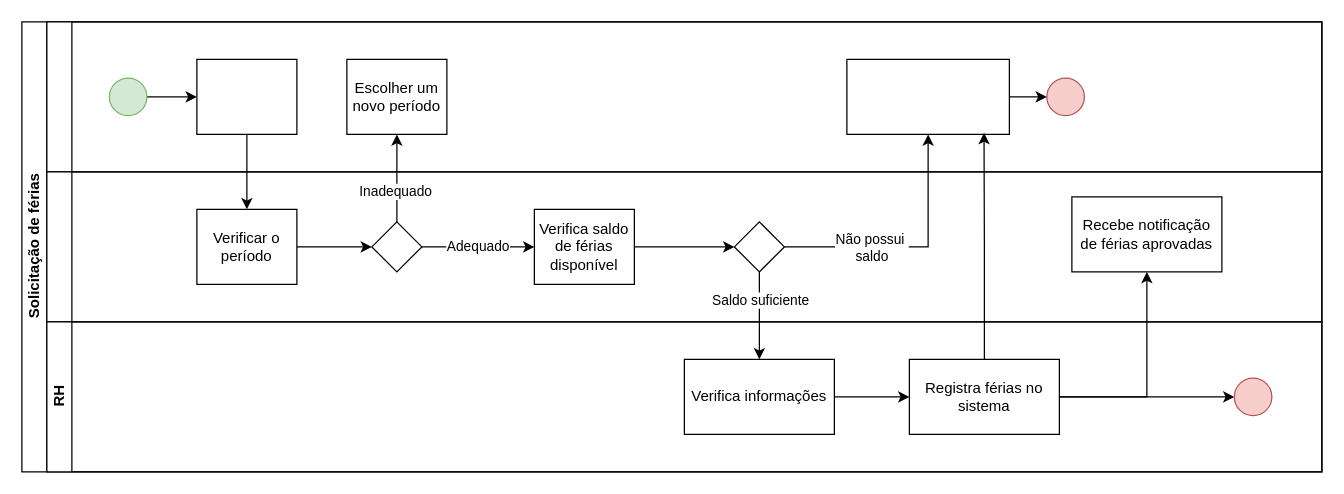
Some shapes in this 1344 by 494 pixel diagram are drawn without their labels. Each missing label, with the box of its shape:
Chefe: (46, 171, 1322, 322)
Funcionário: (46, 21, 1322, 172)
Recebe notificação sobre a situação das férias: (846, 58, 1009, 134)
Solicitar Férias: (196, 58, 297, 134)
